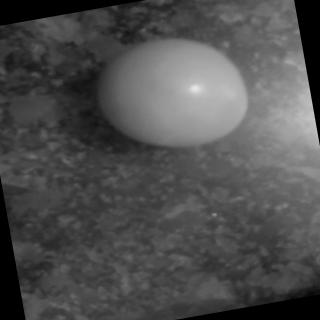Telur: (82, 22, 259, 170)
